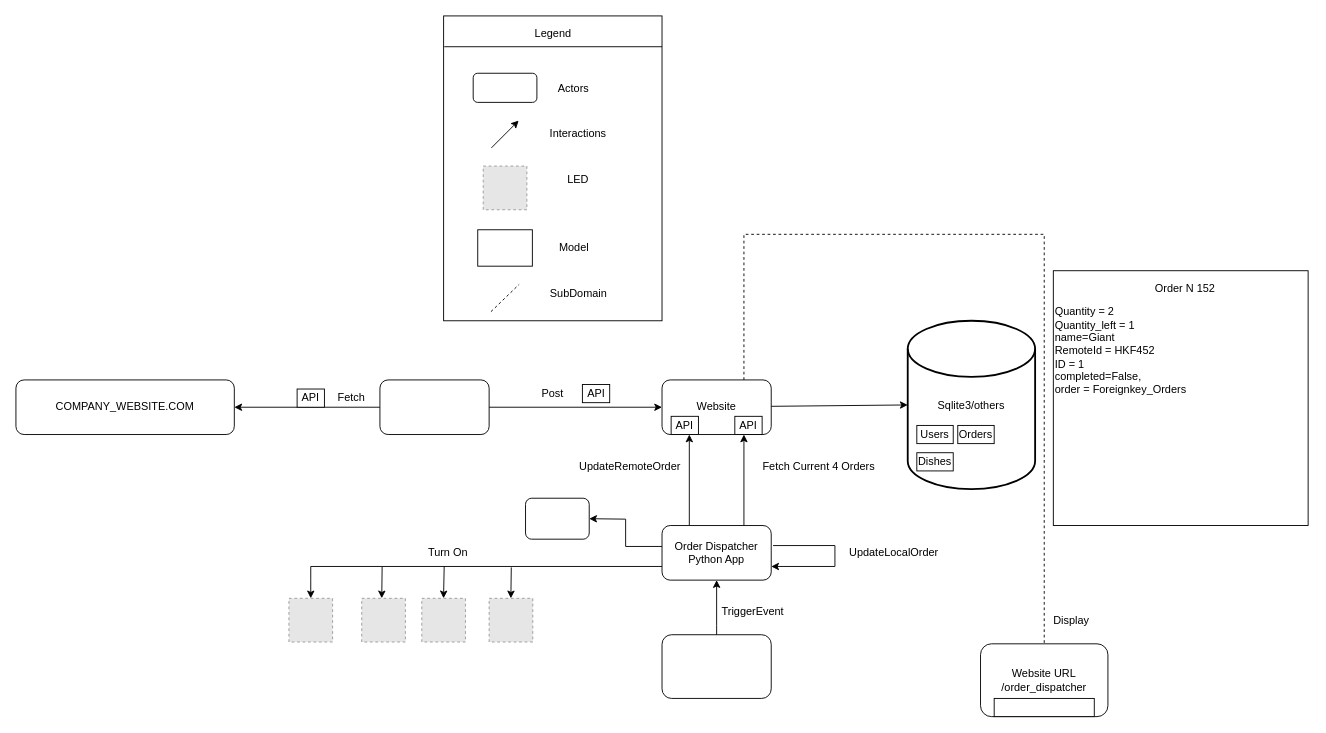
The diagram is 1326 pixels wide and 733 high, and some of its shapes have lost their labels. Grey dashed boxes stand in for pictures. Each missing label, with the centre of its shape:
"Auto Reload" goes at [1043,707].
"Caméra" goes at [716,666].
"Cron Script" goes at [434,407].
"Screen" goes at [557,518].
